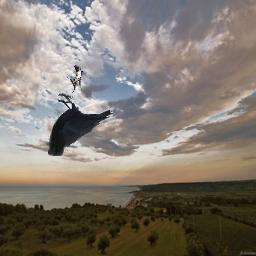Crow: (49, 92, 114, 156)
Swallow: (67, 65, 84, 93)
